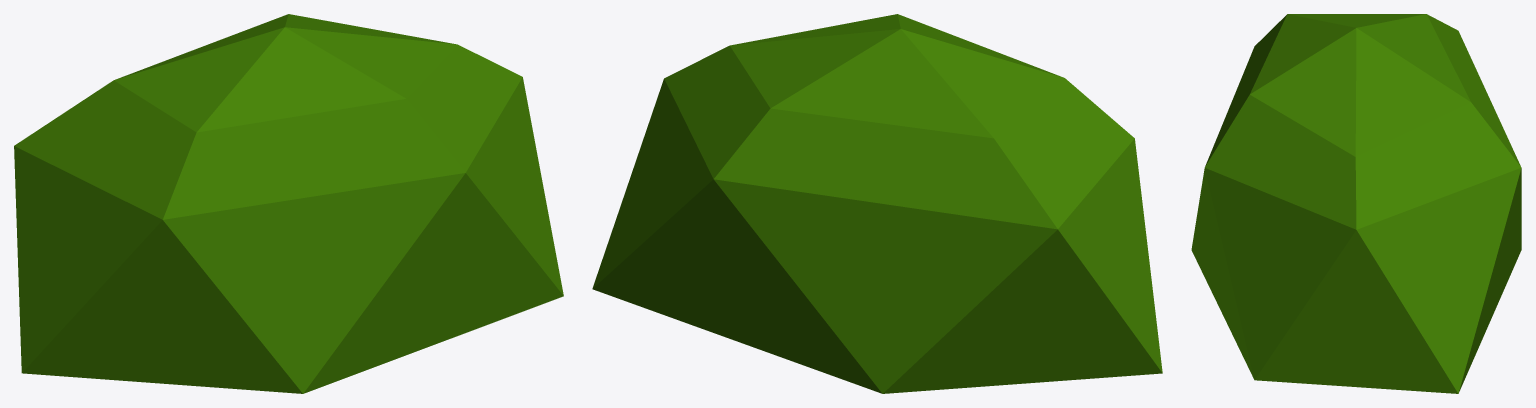
The model's file is Bush1.fbx.
3 views of the same model, side by side, from view 1: azimuth 30°, elevation 25°; view 2: azimuth 150°, elevation 25°; view 3: azimuth 270°, elevation 25° (orthographic). The views are drawn at different scales.
Visible parts, largest first — view 1: Icosphere; view 2: Icosphere; view 3: Icosphere.
Part boxes in pixels (box(x1,y1,x2,y2)): Icosphere: box(14, 14, 563, 393); Icosphere: box(592, 14, 1162, 393); Icosphere: box(1191, 14, 1521, 393).
Size of the model in its own units: 1.39 by 0.7794 by 0.8506.
